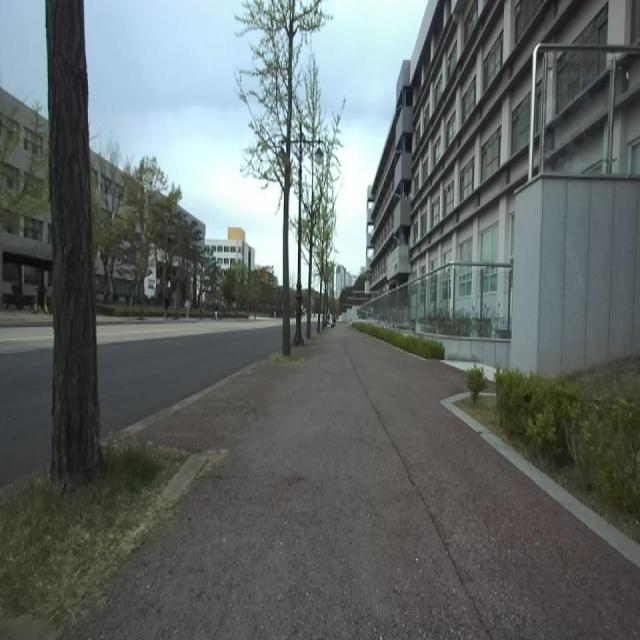sidewalk: (74, 324, 640, 639), (442, 392, 640, 568), (115, 361, 265, 440), (158, 454, 208, 507)
